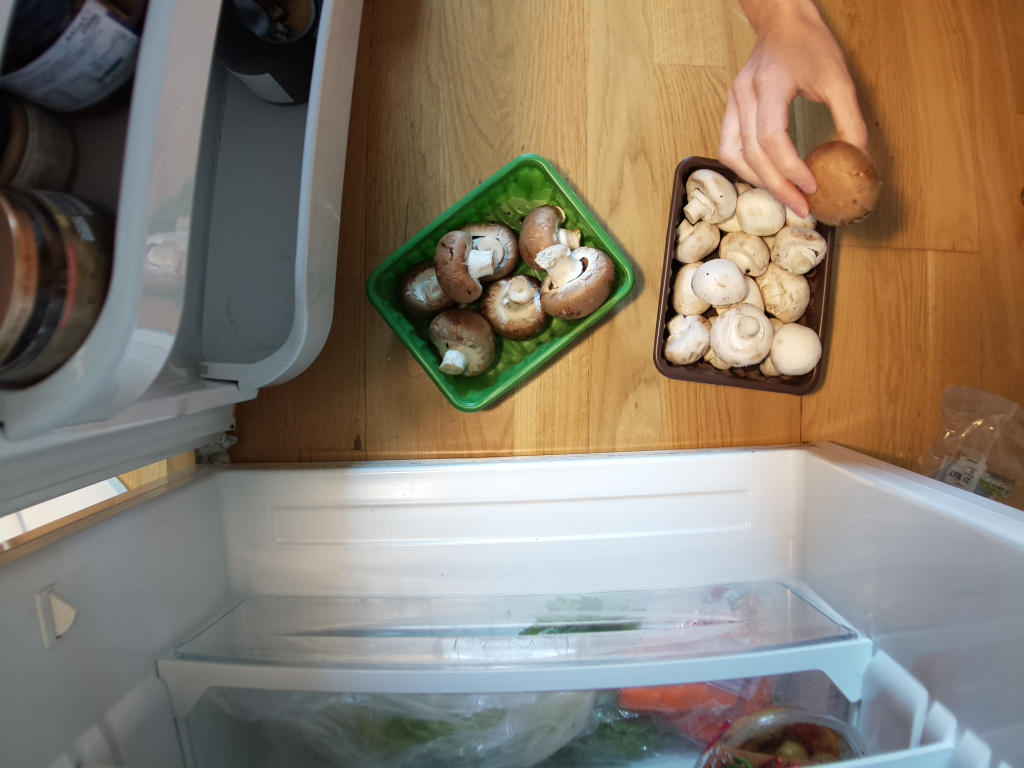mushrooms: (376, 160, 629, 414), (657, 149, 839, 397)
